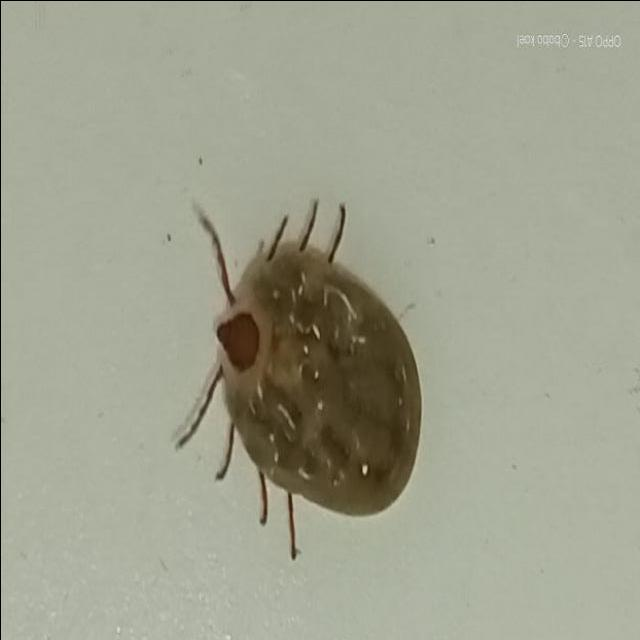Rhipicephalus Sanguineus-F-Fed: (170, 196, 421, 560)
